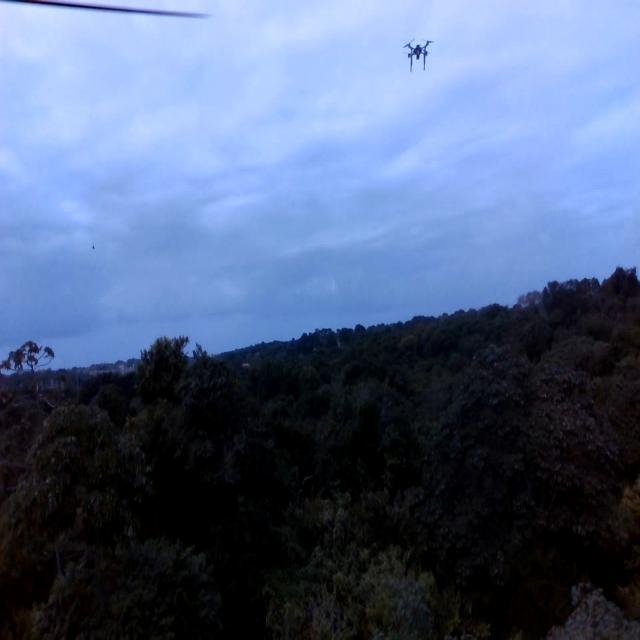-uav-: (396, 26, 439, 88)
